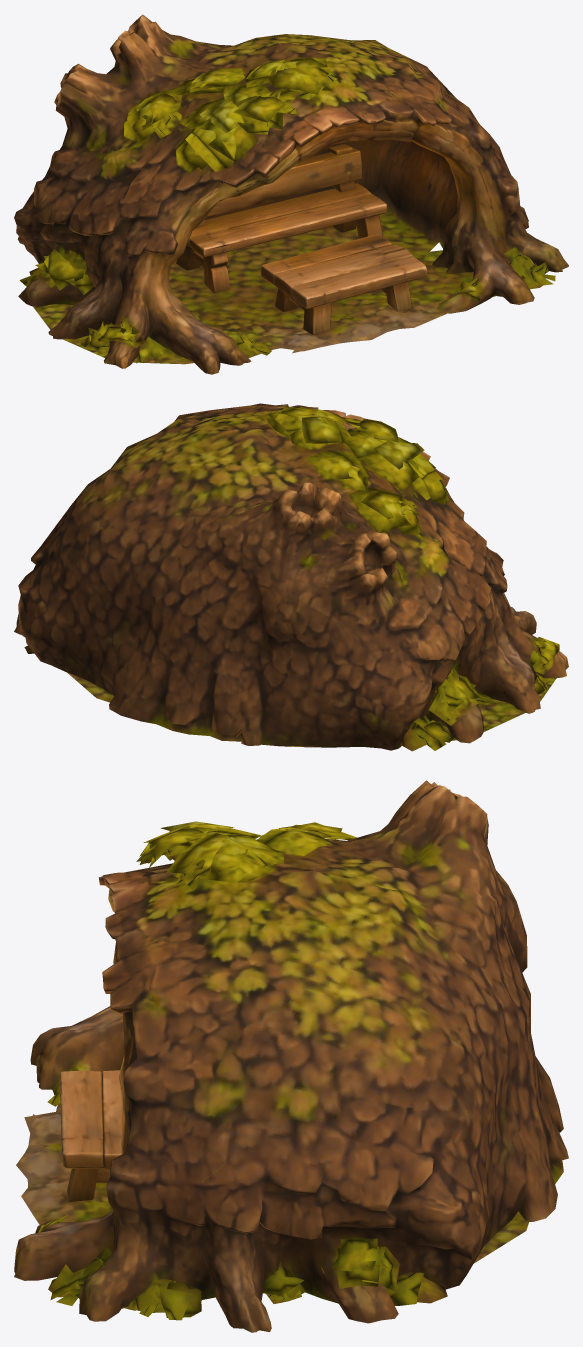
Rendered from haven.glb.
3 renders of one model, top to bottom at view 1: azimuth 30°, elevation 25°; view 2: azimuth 150°, elevation 25°; view 3: azimuth 270°, elevation 25°, orthographic. The views are drawn at different scales.
Visible parts, largest first — view 1: geometry_0; view 2: geometry_0; view 3: geometry_0.
Boxes of the visible parts, x1,y1,x2,y2 form: geometry_0: [14, 14, 568, 374]; geometry_0: [14, 403, 568, 751]; geometry_0: [14, 780, 568, 1332].
Bounding box in the file's own units: 0.9629 × 0.4458 × 0.6846.
1 material, 1 textured.
